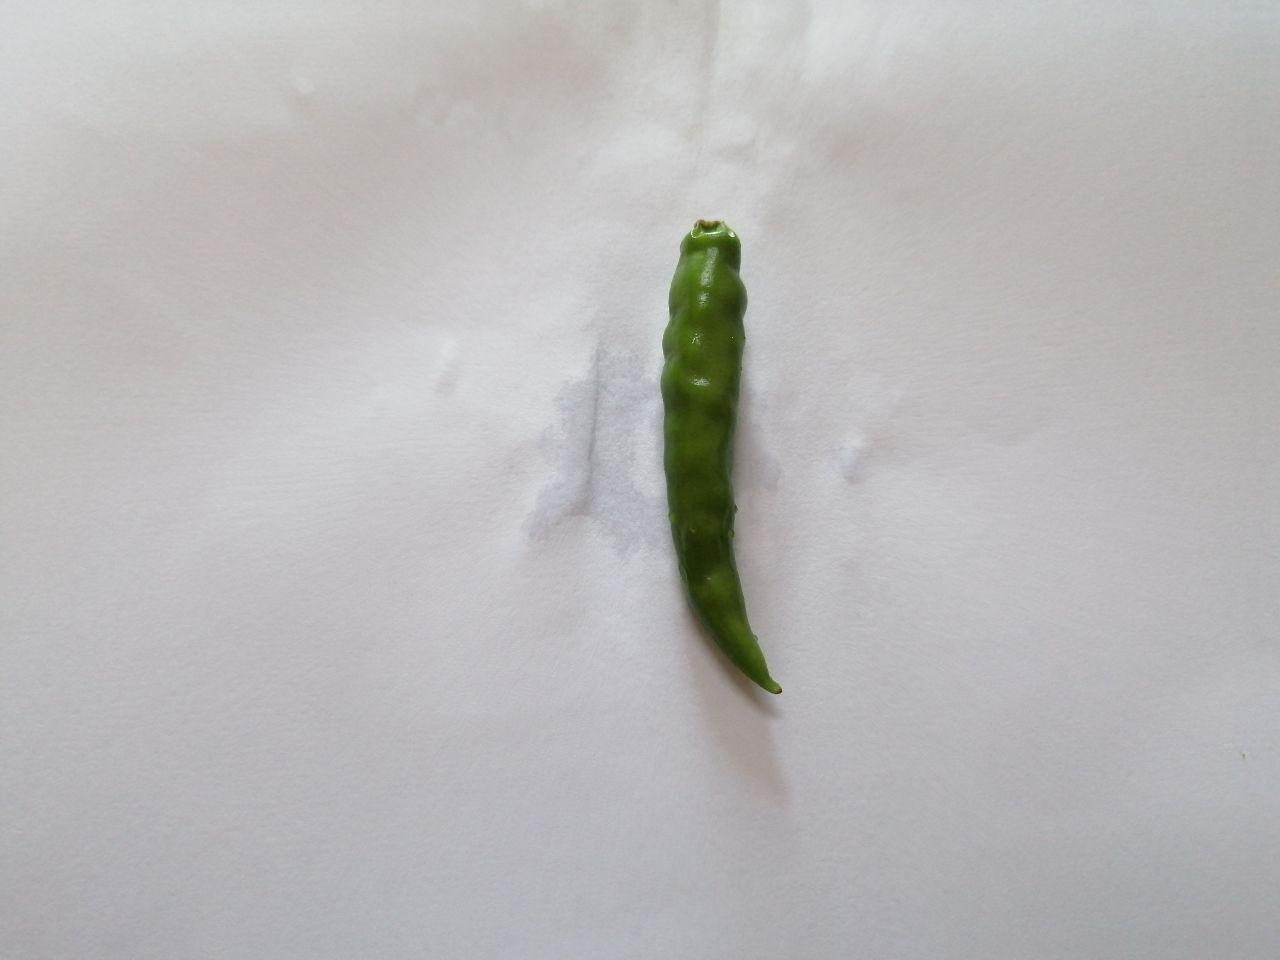lada hijau: (638, 202, 830, 715)
